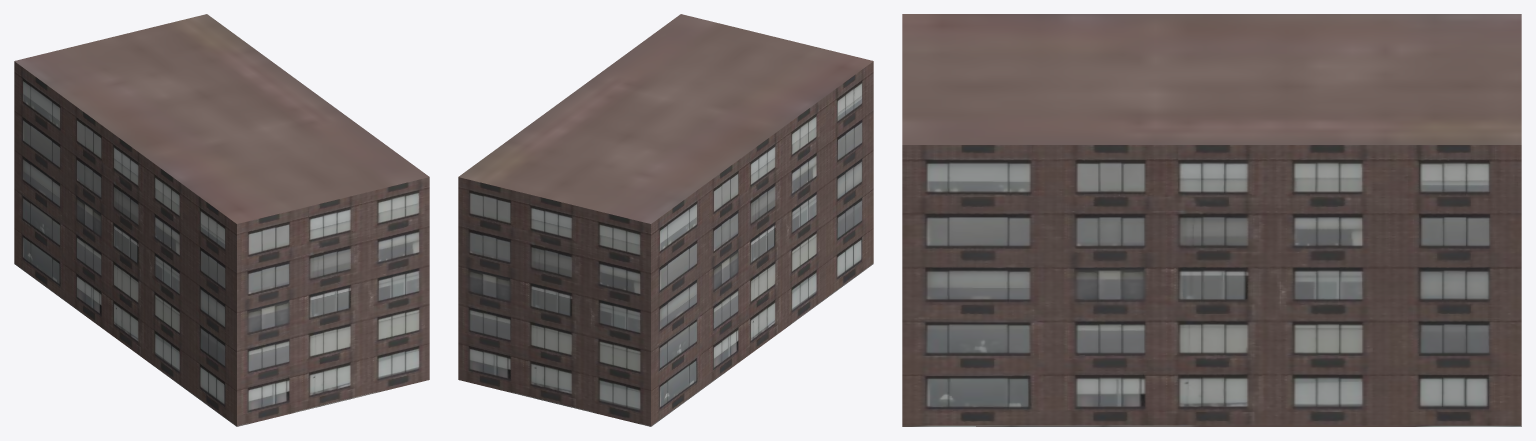
File: 1x2_sbuilding.dae
3 views of the same model, side by side, from view 1: azimuth 30°, elevation 25°; view 2: azimuth 150°, elevation 25°; view 3: azimuth 270°, elevation 25° (orthographic). The views are drawn at different scales.
Visible parts, largest first — view 1: pCube1; view 2: pCube1; view 3: pCube1.
Part boxes in pixels (bbox=[...]): pCube1: bbox=[14, 14, 429, 426]; pCube1: bbox=[458, 14, 873, 426]; pCube1: bbox=[902, 14, 1521, 426].
Size of the model in its own units: 100 by 100 by 200.
